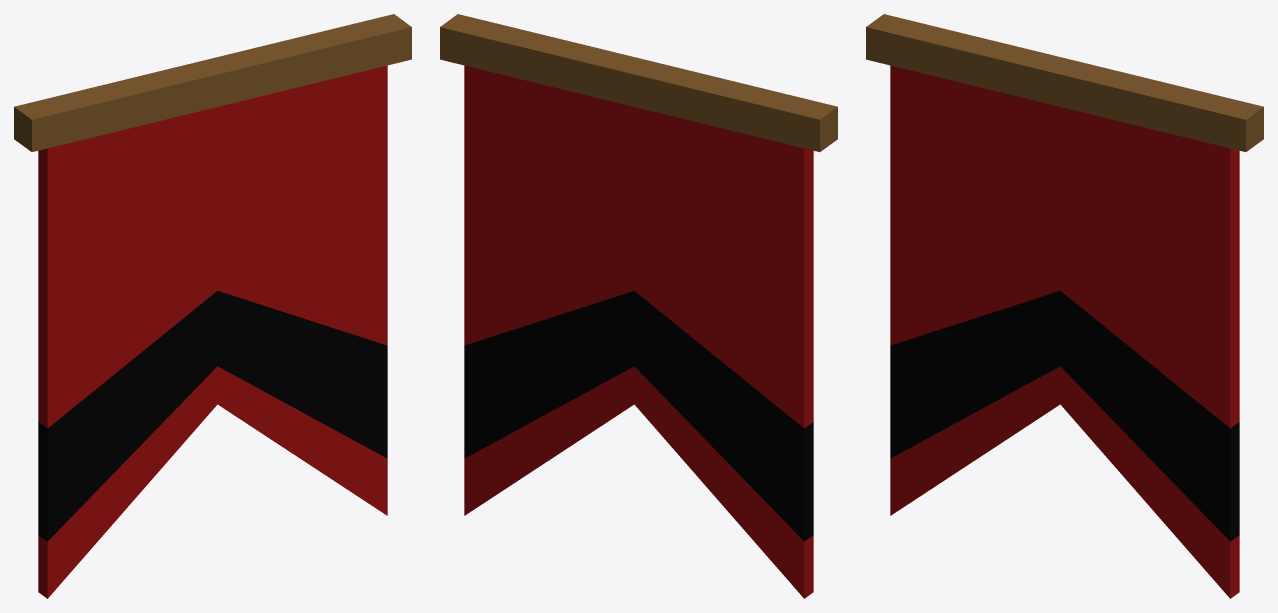
The model's file is vikingeliteflag.fbx.
The picture shows the model from 3 angles, left to right: view 1: azimuth 30°, elevation 25°; view 2: azimuth 150°, elevation 25°; view 3: azimuth 330°, elevation 25°; orthographic projection.
Parts seen in each view (by area): view 1: pCube29; view 2: pCube29; view 3: pCube29.
Part boxes in pixels (left/top/right/bottom): pCube29: left=14, top=14, right=411, bottom=598; pCube29: left=440, top=14, right=837, bottom=598; pCube29: left=866, top=14, right=1263, bottom=598.
Size of the model in its own units: 25.03 by 30.66 by 2.04.
1 material, 1 textured.
